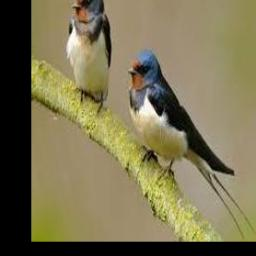Swallow: (127, 51, 254, 237), (66, 0, 112, 105)
